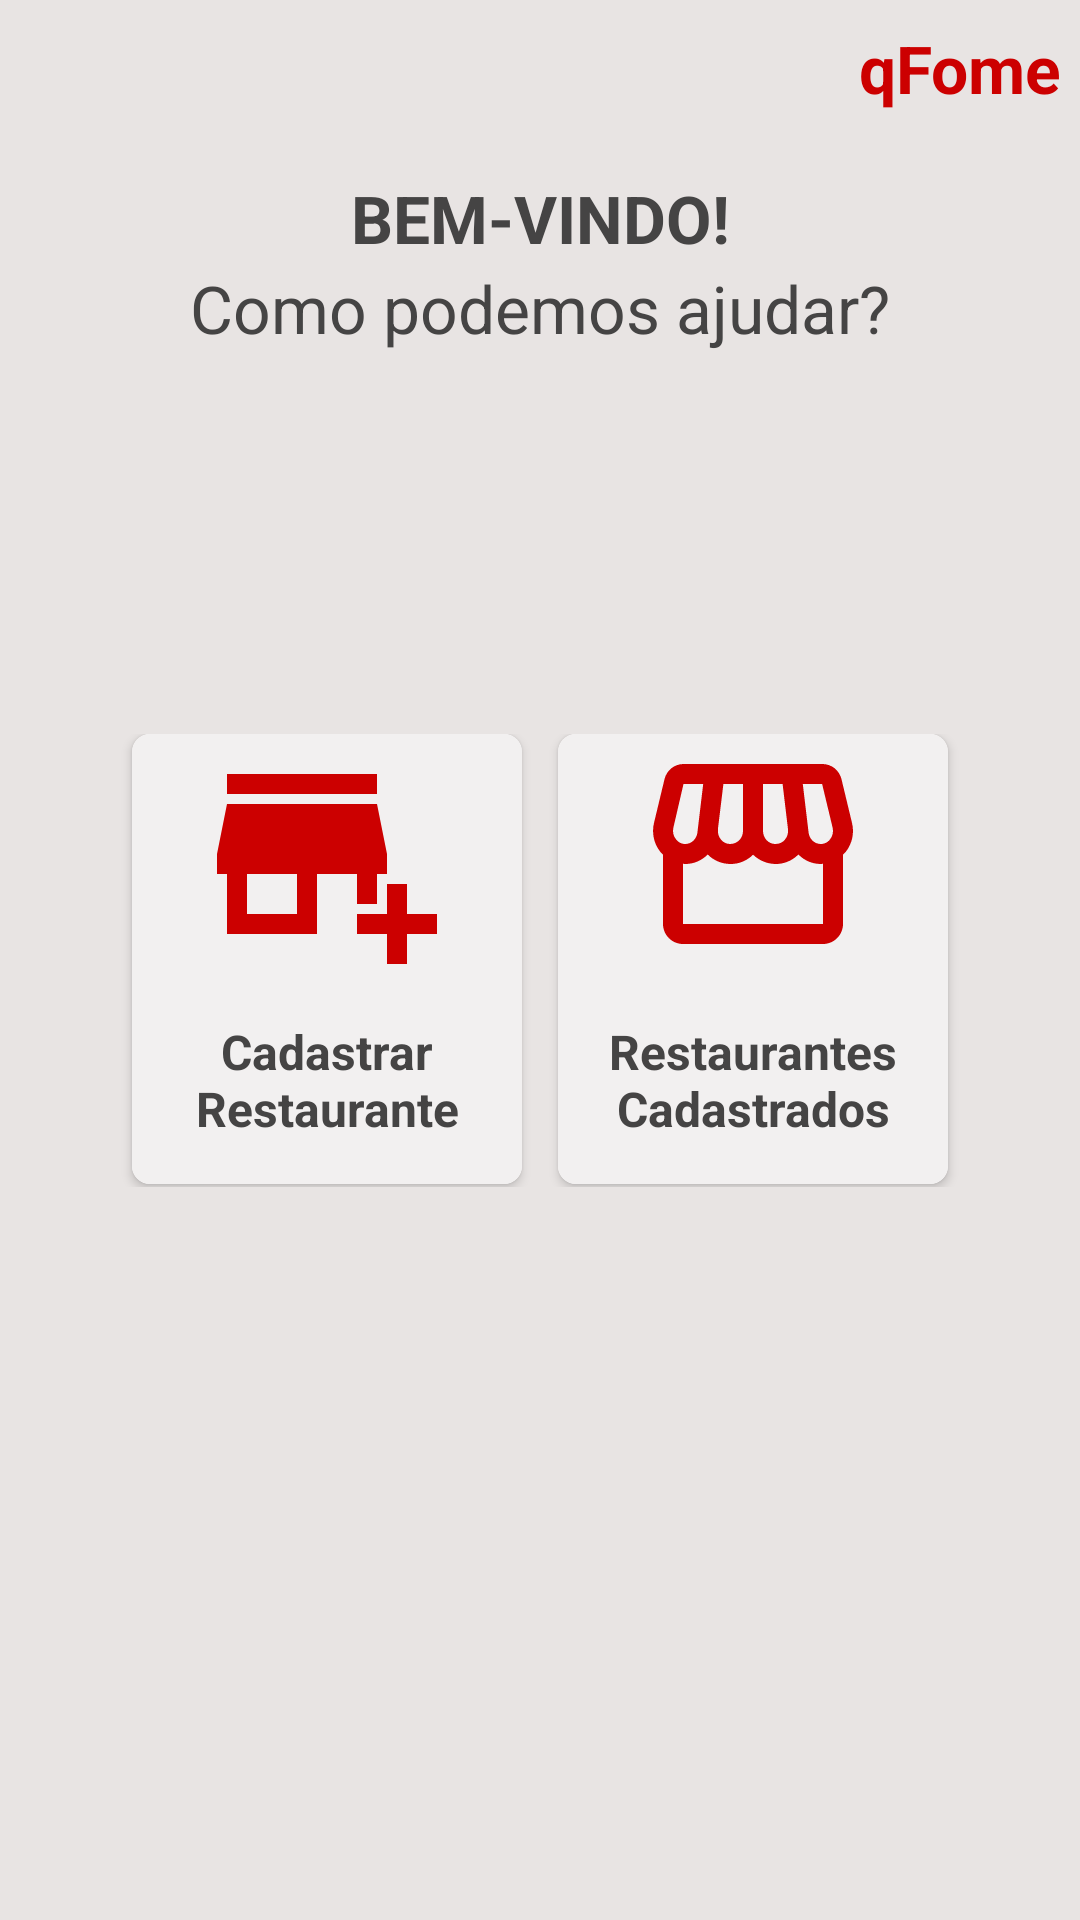

Where icons sit on this 1080*1920 app screen, as (x1, y1, x2, y2):
add business: (217, 774, 437, 964)
storefront: (653, 764, 853, 944)
